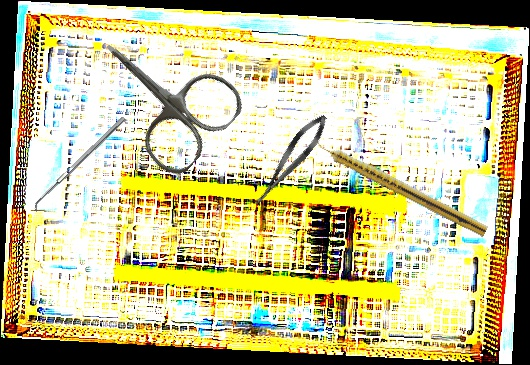Handpiece: (309, 134, 491, 238)
Iris Scissors: (71, 4, 251, 183)
Micro Scissor: (247, 109, 334, 211)
Spatula Surgical: (30, 116, 130, 213)
